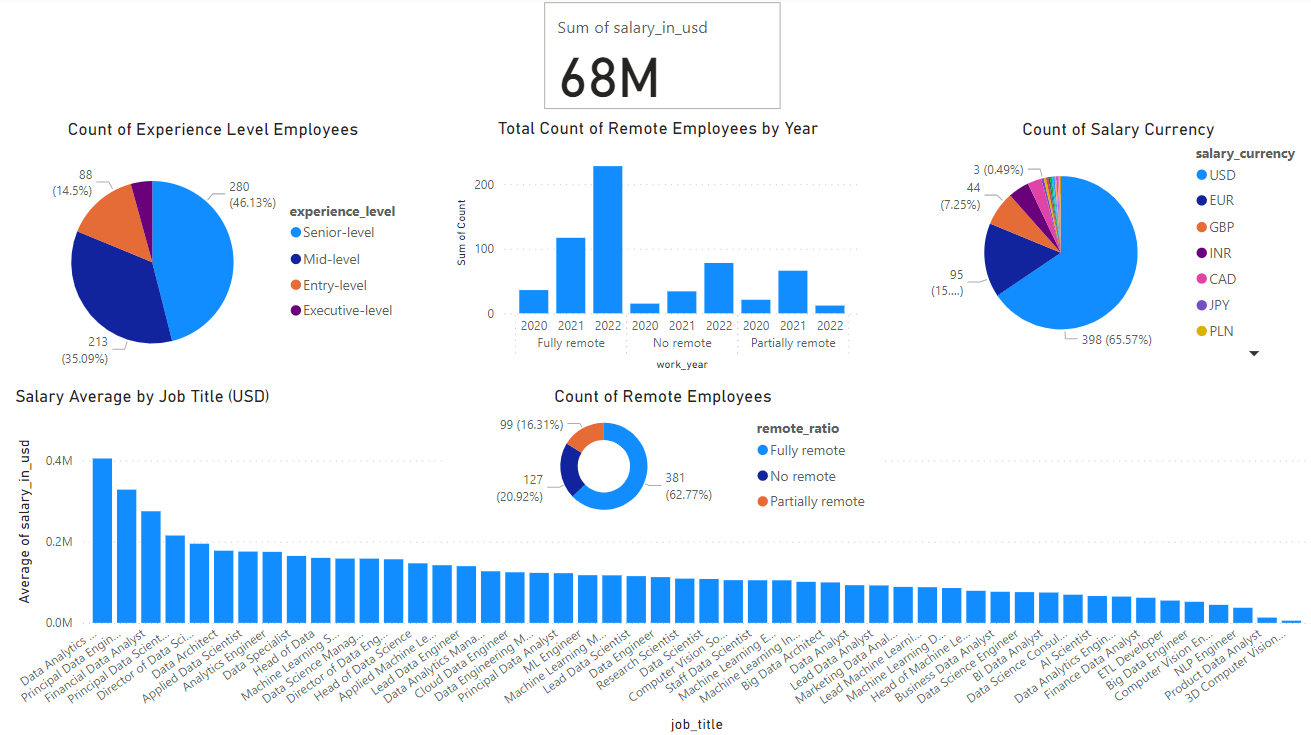

The dashboard page shown, as its layout file describes it:
{"tool":"powerbi","page":{"name":"Page 1","canvas":[1280,720],"ordinal":0},"visuals":[{"type":"clusteredColumnChart","title":"Total Count of Remote Employees by Year","fields":{"Y":["Sum(Salaries2.Count)"],"Category":["Salaries2.remote_ratio","Salaries2.work_year"]},"box":[438.7,117.7,402.7,250],"z":0},{"type":"clusteredColumnChart","title":"Salary Average by Job Title (USD)","fields":{"Y":["Avg(Salaries2.salary_in_usd)"],"Category":["Salaries2.job_title"]},"box":[9.7,378.4,1270.3,341.4],"z":1000},{"type":"cardVisual","fields":{"Data":["Sum(Salaries2.salary_in_usd)"]},"box":[524.3,0,240.2,114.8],"z":2000},{"type":"pieChart","title":"Count of Experience Level Employees","fields":{"Category":["Salaries2.experience_level"],"Y":["CountNonNull(Salaries2.experience_level)"]},"box":[9.7,118.7,394.9,259.7],"z":3000},{"type":"donutChart","title":"Count of Remote Employees","fields":{"Category":["Salaries2.remote_ratio"],"Y":["CountNonNull(Salaries2.remote_ratio)"]},"box":[433.8,378.4,422.1,137.1],"z":4000},{"type":"pieChart","title":"Count of Salary Currency","fields":{"Category":["Salaries2.salary_currency"],"Y":["CountNonNull(Salaries2.salary_currency)"]},"box":[895.8,118.7,384.2,241.2],"z":5000}]}

Visuals, with their boxes in screenshot pixels (x1, y1, x2, y2), scaled from the page's 1280x720 canvas onto the 1311x735 screenshot:
"Total Count of Remote Employees by Year" clusteredColumnChart: 449,120,862,375
"Salary Average by Job Title (USD)" clusteredColumnChart: 10,386,1310,734
cardVisual - Sum(Salaries2.salary_in_usd): 537,0,783,117
"Count of Experience Level Employees" pieChart: 10,121,414,386
"Count of Remote Employees" donutChart: 444,386,877,526
"Count of Salary Currency" pieChart: 917,121,1310,367
